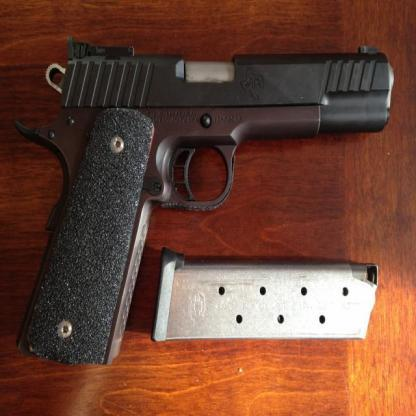weapon: (14, 36, 397, 368)
